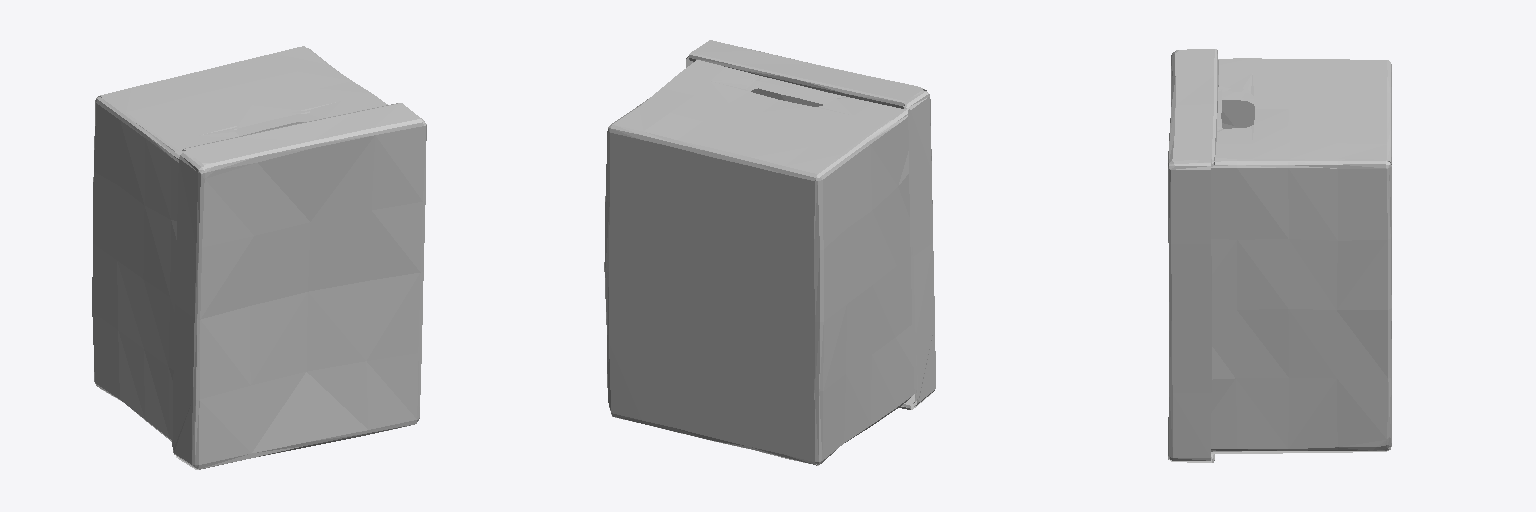
The picture shows the model from 3 angles: view 1: azimuth 30°, elevation 25°; view 2: azimuth 150°, elevation 25°; view 3: azimuth 270°, elevation 25°; orthographic projection.
Parts seen in each view (by area): view 1: BoxB_lid_PI_BOX_0, BoxB_lid001_PI_BOX_0; view 2: BoxB_lid_PI_BOX_0, BoxB_lid001_PI_BOX_0; view 3: BoxB_lid_PI_BOX_0, BoxB_lid001_PI_BOX_0.
Boxes of the visible parts, <box> form: BoxB_lid_PI_BOX_0: <box>92,46,425,469</box>; BoxB_lid001_PI_BOX_0: <box>182,121,426,469</box>; BoxB_lid_PI_BOX_0: <box>604,40,935,465</box>; BoxB_lid001_PI_BOX_0: <box>689,55,926,409</box>; BoxB_lid_PI_BOX_0: <box>1168,49,1391,462</box>; BoxB_lid001_PI_BOX_0: <box>1168,69,1214,460</box>.
Bounding box in the file's own units: 0.6667 × 0.8543 × 0.5553.